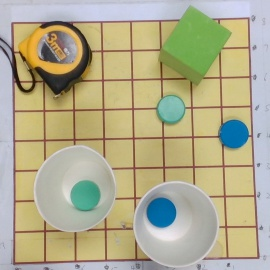blue: (220, 120, 249, 149)
cup_blue: (134, 175, 219, 266)
cup_green: (34, 145, 117, 231)
green: (157, 95, 185, 123)
